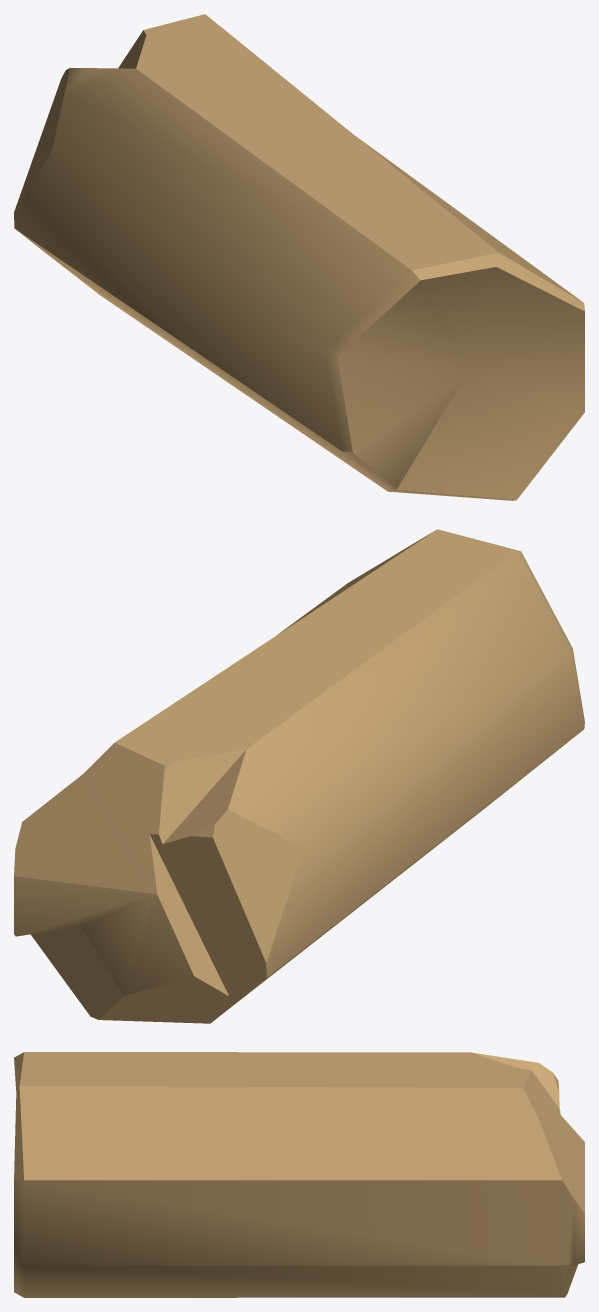
File: BrokenRuin_pillarMid_02.fbx
The picture shows the model from 3 angles, top to bottom: view 1: azimuth 30°, elevation 25°; view 2: azimuth 150°, elevation 25°; view 3: azimuth 270°, elevation 25°; orthographic projection. The views are drawn at different scales.
Visible parts, largest first — view 1: pillarMid_02; view 2: pillarMid_02; view 3: pillarMid_02.
Part boxes in pixels (bbox=[...]): pillarMid_02: bbox=[14, 14, 584, 500]; pillarMid_02: bbox=[14, 529, 584, 1023]; pillarMid_02: bbox=[14, 1052, 584, 1297].
Size of the model in its own units: 114 by 117 by 287.
